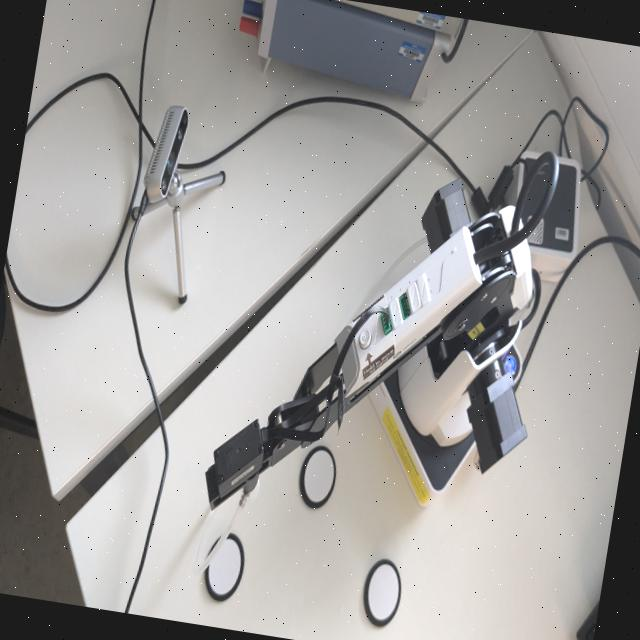Robot-end-effector-HF8z: (196, 408, 291, 524)
